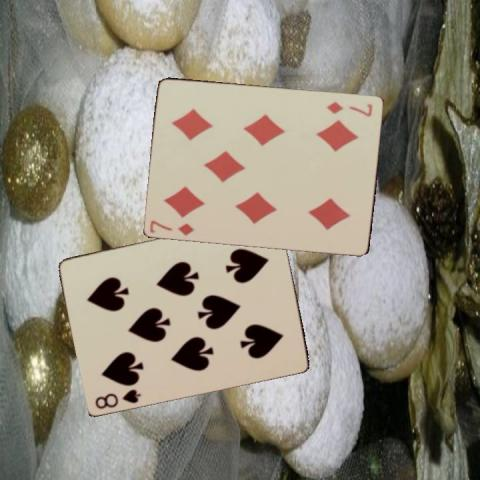7d: (323, 98, 374, 118), (147, 216, 196, 236)
8s: (92, 386, 143, 410)
